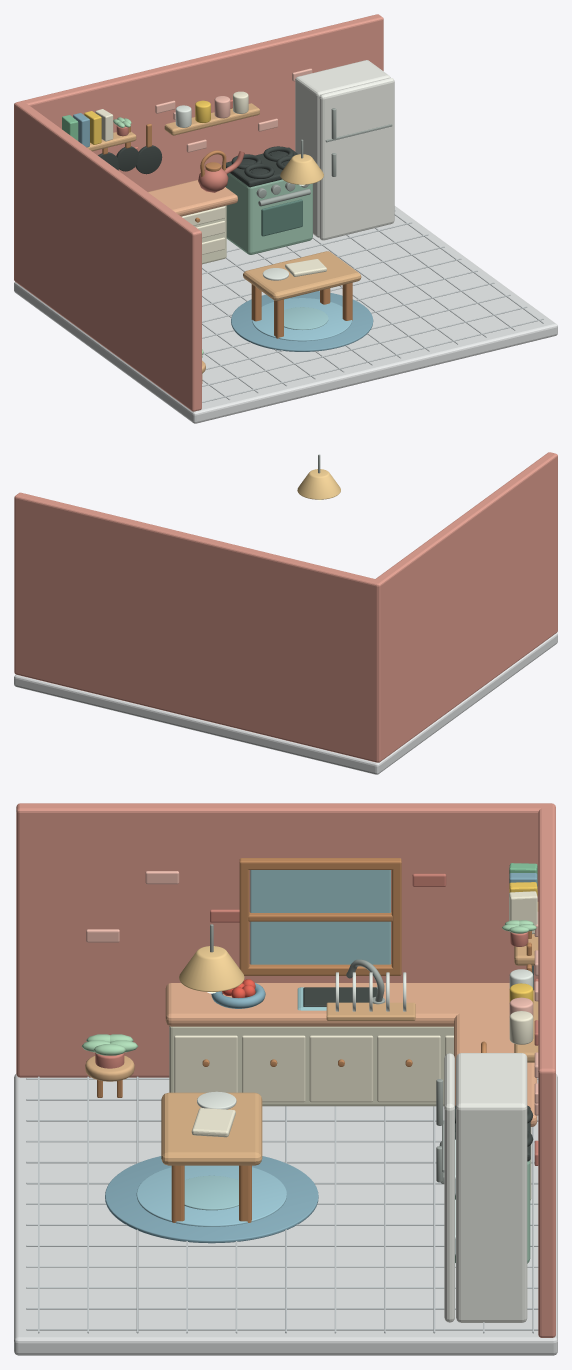
Rendered from Kitchen-Home-rebuilt-lighting.glb.
3 views of the same model, one above another, from view 1: azimuth 30°, elevation 25°; view 2: azimuth 150°, elevation 25°; view 3: azimuth 270°, elevation 25° (orthographic). The views are drawn at different scales.
Visible parts, largest first — view 1: Left_Wall, Floor_Base, Back_Wall, Fridge_Door, Stove_Body, Rug_Outer, Dining_Table_Top, Fridge_Left_Wall, Rug_Middle, Back_Countertop, Fridge_Top, Dining_Table (+11 smaller); view 2: Back_Wall, Left_Wall, Floor_Base, Ceiling_Lamp_Shade; view 3: Floor_Base, Left_Wall, Fridge_Right_Wall, Window_Glass, Left_Countertop, Back_Wall, Rug_Outer, Dining_Table_Top, Left_Cabinets_Body, Rug_Middle, Left_Cabinets_Door_3, Left_Cabinets_Door_4 (+29 smaller).
Boxes of the visible parts, x1,y1,x2,y2 form: Left_Wall: (14,101,201,411); Floor_Base: (14,206,557,423); Back_Wall: (16,14,383,191); Fridge_Door: (319,78,394,240); Stove_Body: (225,173,312,254); Rug_Outer: (231,291,373,351); Dining_Table_Top: (243,251,361,300); Fridge_Left_Wall: (295,77,320,237); Rug_Middle: (252,298,351,341); Back_Countertop: (148,180,237,216); Fridge_Top: (298,60,388,94); Dining_Table: (251,282,352,338); Back_Wall: (14,492,380,762); Left_Wall: (373,452,557,762); Floor_Base: (14,633,557,774); Ceiling_Lamp_Shade: (297,469,340,499); Floor_Base: (14,1074,557,1355); Left_Wall: (16,803,553,1077); Fridge_Right_Wall: (456,1103,527,1322); Window_Glass: (250,870,390,964); Left_Countertop: (165,983,509,1026); Back_Wall: (538,804,555,1337); Rug_Outer: (105,1156,318,1243); Dining_Table_Top: (161,1092,262,1165); Left_Cabinets_Body: (169,1026,453,1106); Rug_Middle: (136,1165,286,1226); Left_Cabinets_Door_3: (309,1035,373,1102); Left_Cabinets_Door_4: (377,1035,440,1102).
Bounding box in the file's own units: 6.41 × 3.26 × 5.5.
